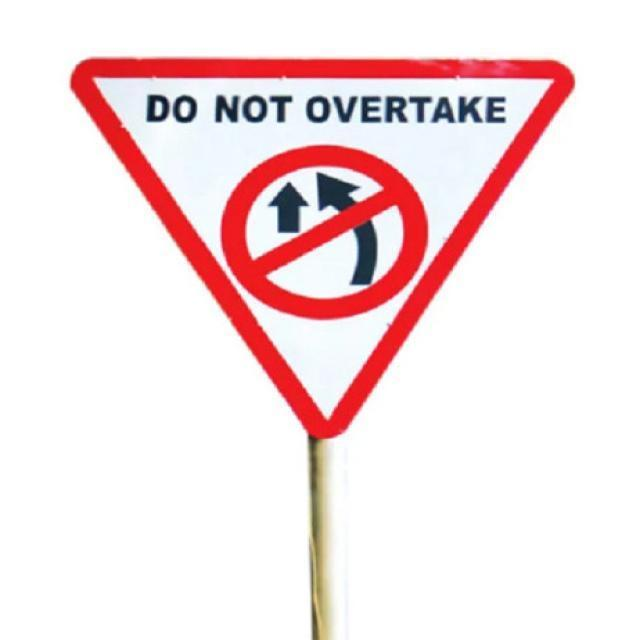overtaking prohibited: (212, 141, 429, 321)
